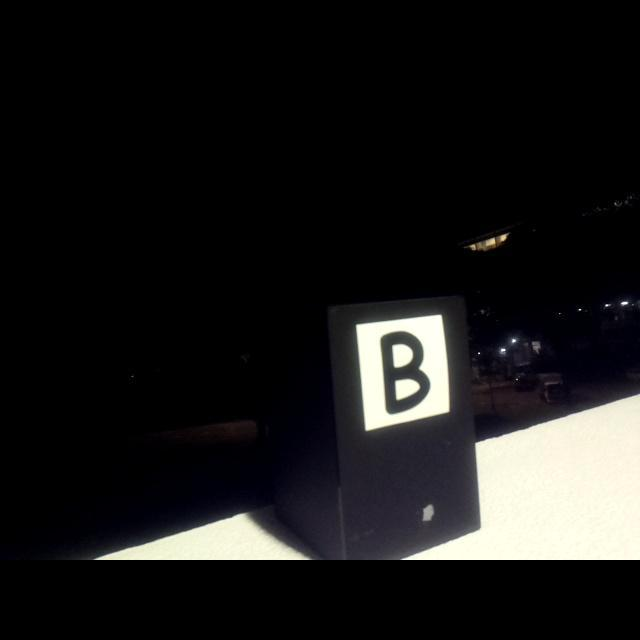B: (379, 331, 430, 416)
